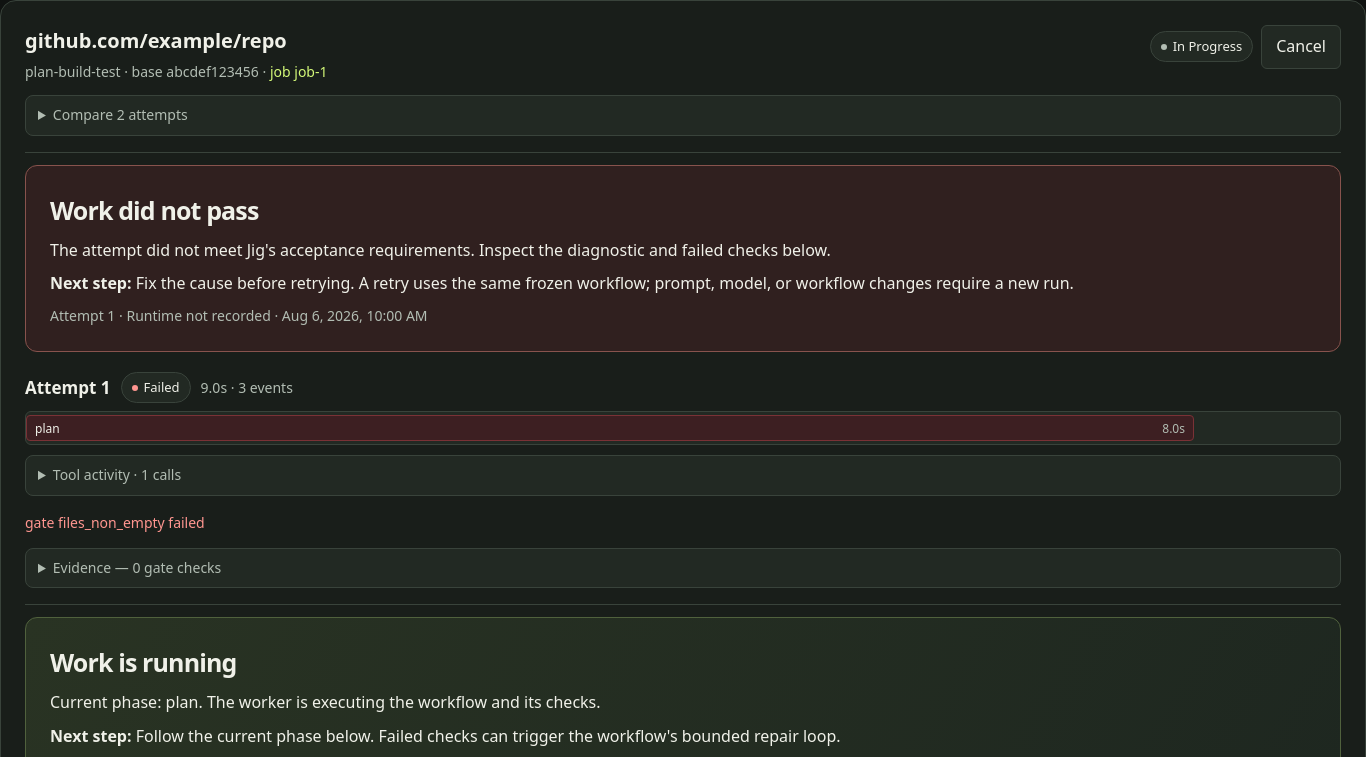
Scenario: swim lanes › gives attempt 2 of a retried job its own lane while attempt 1 stays inspectable
This screenshot has width=1366, height=757.
Check: the heading "Attempt 1" is shown, box [25,374,110,401]
Check: the list item with aria-label "phase plan, fail" is shown, box [26,415,1194,441]
Click the heading "Compare 2 attempts": [120, 115] box [53,105,188,124]
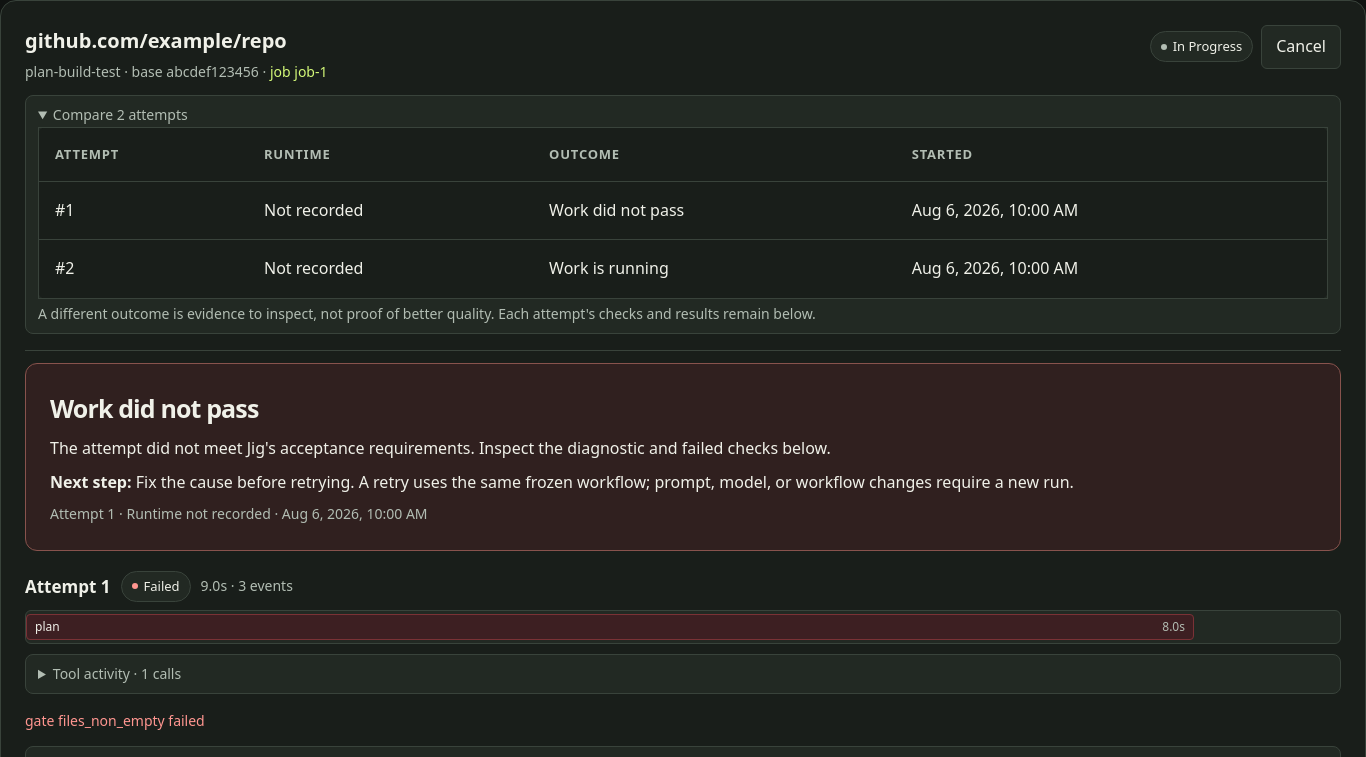
Check: the number of rows is 3, box [38,127,1328,181]; [38,181,1328,240]; [38,240,1328,298]
Check: the text "Work did not pass" is shown, box [533,181,896,240]
Check: the text "Work is running" is shown, box [533,240,896,298]
